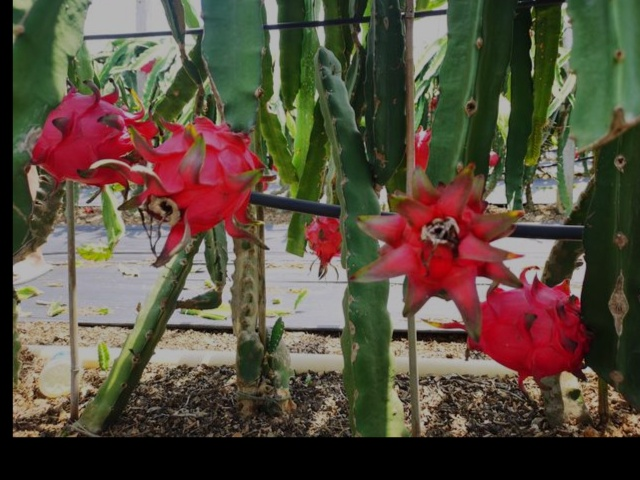pitaya: (364, 173, 516, 308), (149, 116, 256, 225), (33, 88, 158, 181), (469, 280, 587, 376), (304, 214, 342, 265), (402, 123, 441, 169)
